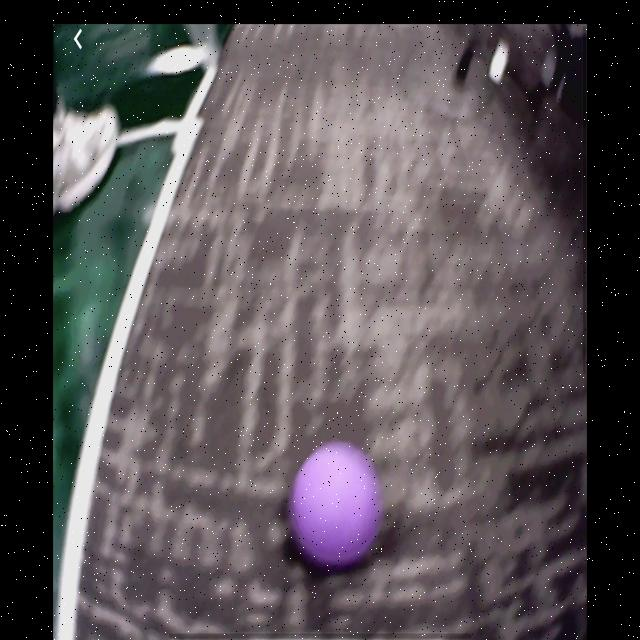ball: (295, 446, 378, 562)
